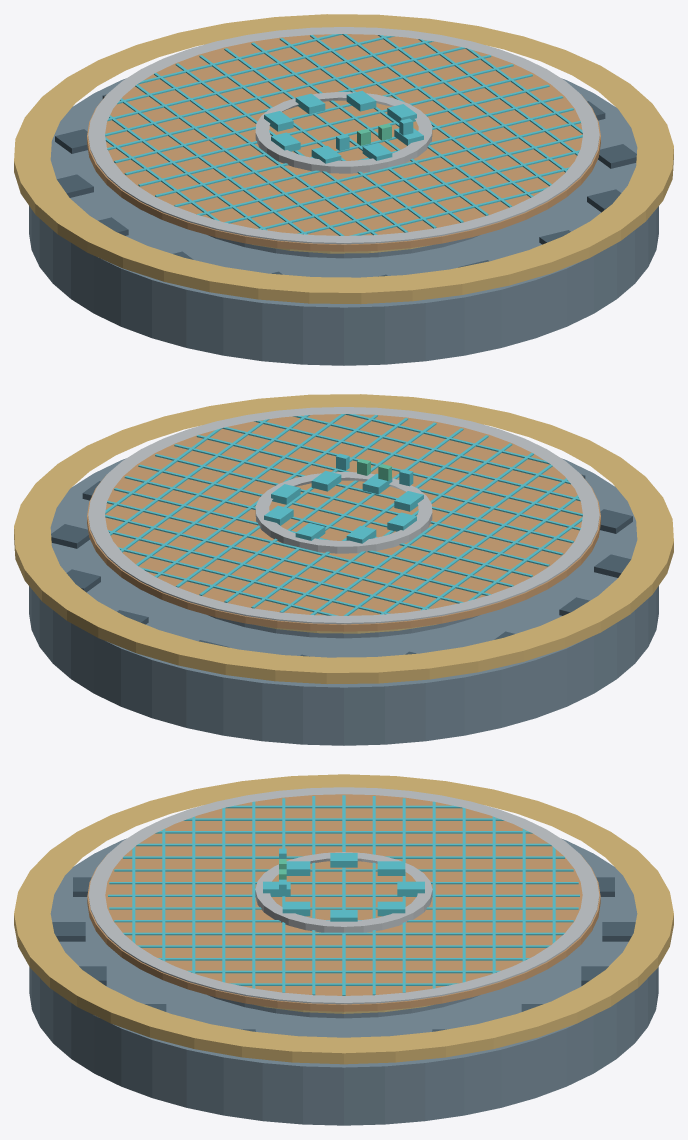
Rendered from 18_L78_CapHeatedWaferSusceptor.glb.
3 views of the same model, one above another, from view 1: azimuth 30°, elevation 25°; view 2: azimuth 150°, elevation 25°; view 3: azimuth 270°, elevation 25° (orthographic).
Visible parts, largest first — view 1: CapHeatedWaferSusceptor_Node_0002, CapHeatedWaferSusceptor_Node_0000, CapHeatedWaferSusceptor_Node_0001, CapHeatedWaferSusceptor_Node_0003, CapHeatedWaferSusceptor_Node_0053, CapHeatedWaferSusceptor_Node_0050, CapHeatedWaferSusceptor_Node_0025, CapHeatedWaferSusceptor_Node_0011, CapHeatedWaferSusceptor_Node_0017, CapHeatedWaferSusceptor_Node_0027, CapHeatedWaferSusceptor_Node_0015, CapHeatedWaferSusceptor_Node_0009 (+25 smaller); view 2: CapHeatedWaferSusceptor_Node_0002, CapHeatedWaferSusceptor_Node_0000, CapHeatedWaferSusceptor_Node_0001, CapHeatedWaferSusceptor_Node_0003, CapHeatedWaferSusceptor_Node_0053, CapHeatedWaferSusceptor_Node_0050, CapHeatedWaferSusceptor_Node_0013, CapHeatedWaferSusceptor_Node_0011, CapHeatedWaferSusceptor_Node_0019, CapHeatedWaferSusceptor_Node_0021, CapHeatedWaferSusceptor_Node_0023, CapHeatedWaferSusceptor_Node_0017 (+25 smaller); view 3: CapHeatedWaferSusceptor_Node_0002, CapHeatedWaferSusceptor_Node_0000, CapHeatedWaferSusceptor_Node_0001, CapHeatedWaferSusceptor_Node_0003, CapHeatedWaferSusceptor_Node_0053, CapHeatedWaferSusceptor_Node_0024, CapHeatedWaferSusceptor_Node_0010, CapHeatedWaferSusceptor_Node_0050, CapHeatedWaferSusceptor_Node_0026, CapHeatedWaferSusceptor_Node_0018, CapHeatedWaferSusceptor_Node_0030, CapHeatedWaferSusceptor_Node_0016 (+21 smaller).
Boxes of the visible parts, x1,y1,x2,y2 form: CapHeatedWaferSusceptor_Node_0002: [87, 34, 600, 251]; CapHeatedWaferSusceptor_Node_0000: [29, 78, 658, 365]; CapHeatedWaferSusceptor_Node_0001: [14, 14, 673, 304]; CapHeatedWaferSusceptor_Node_0003: [88, 27, 599, 244]; CapHeatedWaferSusceptor_Node_0053: [255, 92, 432, 173]; CapHeatedWaferSusceptor_Node_0050: [208, 235, 479, 258]; CapHeatedWaferSusceptor_Node_0025: [197, 121, 580, 215]; CapHeatedWaferSusceptor_Node_0011: [105, 47, 465, 136]; CapHeatedWaferSusceptor_Node_0017: [124, 74, 532, 175]; CapHeatedWaferSusceptor_Node_0027: [224, 134, 582, 223]; CapHeatedWaferSusceptor_Node_0015: [114, 64, 513, 163]; CapHeatedWaferSusceptor_Node_0009: [107, 40, 433, 121]; CapHeatedWaferSusceptor_Node_0002: [87, 414, 600, 631]; CapHeatedWaferSusceptor_Node_0000: [29, 458, 658, 745]; CapHeatedWaferSusceptor_Node_0001: [14, 394, 673, 684]; CapHeatedWaferSusceptor_Node_0003: [88, 407, 599, 624]; CapHeatedWaferSusceptor_Node_0053: [255, 472, 432, 553]; CapHeatedWaferSusceptor_Node_0050: [208, 615, 479, 638]; CapHeatedWaferSusceptor_Node_0013: [107, 501, 490, 595]; CapHeatedWaferSusceptor_Node_0011: [105, 514, 463, 603]; CapHeatedWaferSusceptor_Node_0019: [138, 464, 549, 566]; CapHeatedWaferSusceptor_Node_0021: [155, 454, 563, 555]; CapHeatedWaferSusceptor_Node_0023: [174, 444, 573, 543]; CapHeatedWaferSusceptor_Node_0017: [124, 476, 532, 577]; CapHeatedWaferSusceptor_Node_0002: [87, 794, 600, 1011]; CapHeatedWaferSusceptor_Node_0000: [29, 838, 658, 1125]; CapHeatedWaferSusceptor_Node_0001: [14, 774, 673, 1064]; CapHeatedWaferSusceptor_Node_0003: [88, 787, 599, 1004]; CapHeatedWaferSusceptor_Node_0053: [255, 852, 432, 932]; CapHeatedWaferSusceptor_Node_0024: [123, 932, 564, 935]; CapHeatedWaferSusceptor_Node_0010: [136, 843, 551, 846]; CapHeatedWaferSusceptor_Node_0050: [208, 995, 479, 1018]; CapHeatedWaferSusceptor_Node_0026: [137, 945, 550, 947]; CapHeatedWaferSusceptor_Node_0018: [108, 894, 579, 896]; CapHeatedWaferSusceptor_Node_0030: [187, 970, 500, 973]; CapHeatedWaferSusceptor_Node_0016: [109, 882, 578, 884].
Bounding box in the file's own units: 2.16 × 0.4553 × 2.16.
